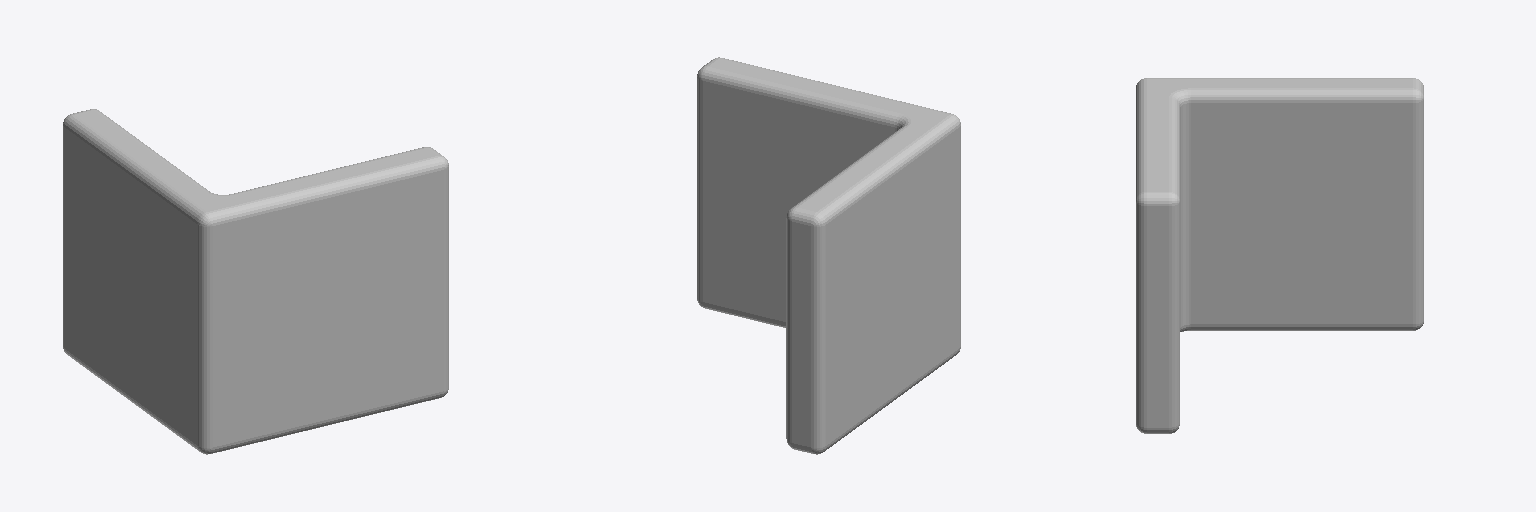
The model's file is Wall.obj.
3 renders of one model, left to right at view 1: azimuth 30°, elevation 25°; view 2: azimuth 150°, elevation 25°; view 3: azimuth 270°, elevation 25°, orthographic.
Parts seen in each view (by area): view 1: Mtl; view 2: Mtl; view 3: Mtl.
Boxes of the visible parts, <box> form: Mtl: <box>63,109,448,454</box>; Mtl: <box>697,57,960,454</box>; Mtl: <box>1136,78,1423,433</box>.
Size of the model in its own units: 1.98 by 1.83 by 1.98.